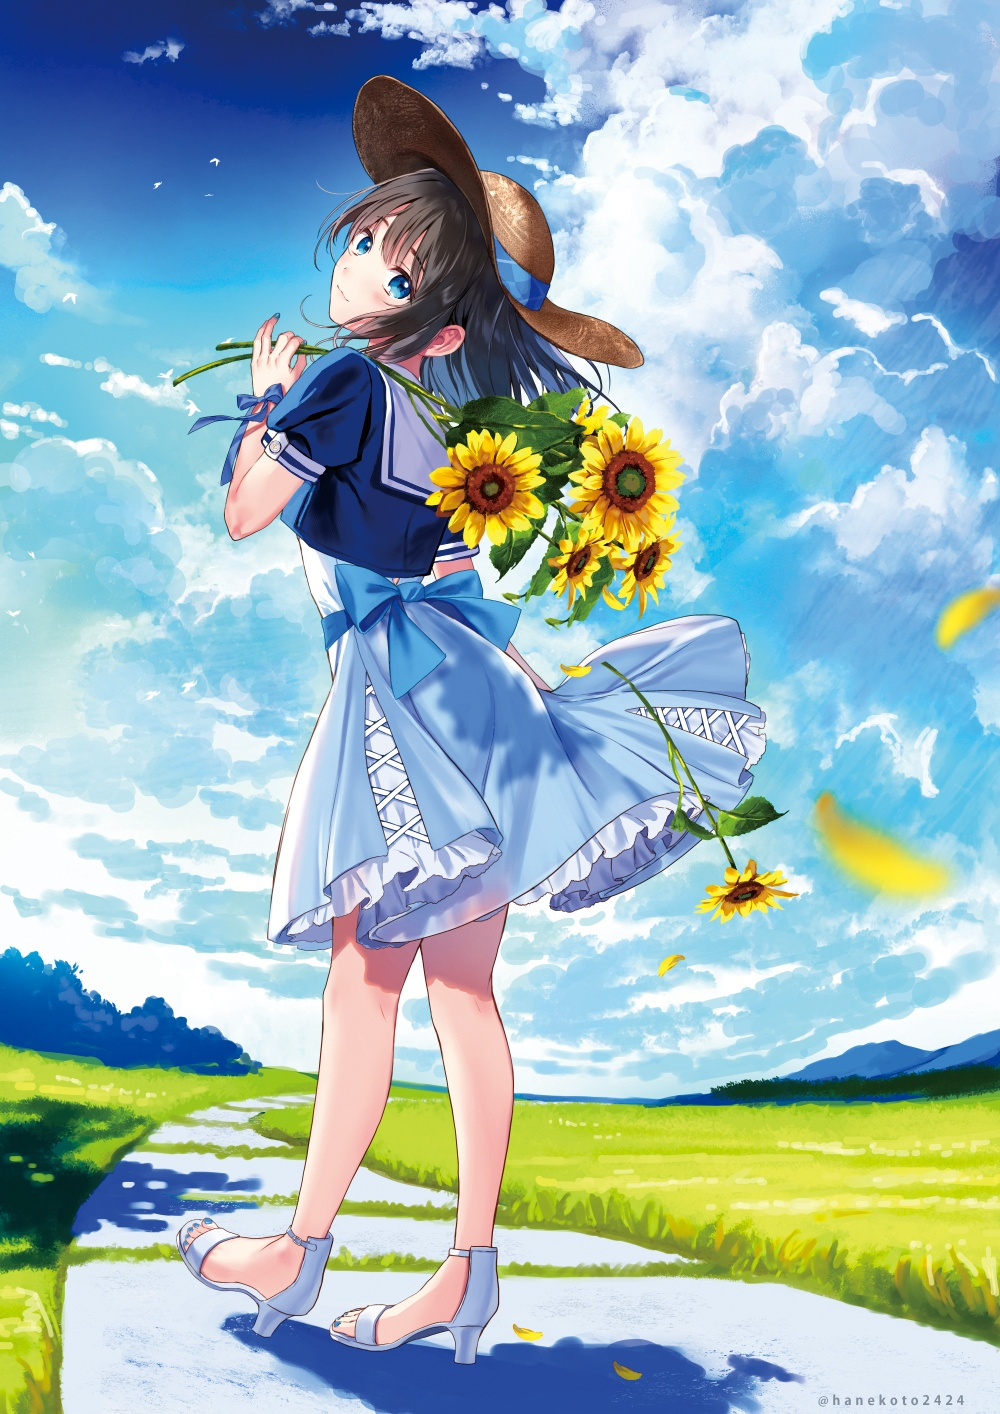纸片人正脸: (308, 169, 490, 359)
